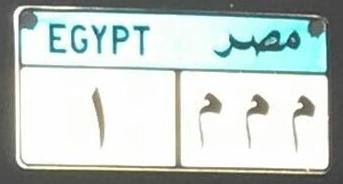1: (87, 82, 110, 150)
meem: (239, 89, 272, 157), (285, 91, 319, 153), (193, 87, 224, 152)
